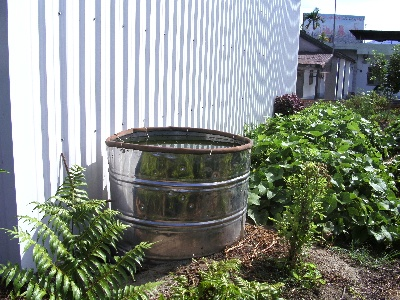bucket: (105, 126, 253, 261)
